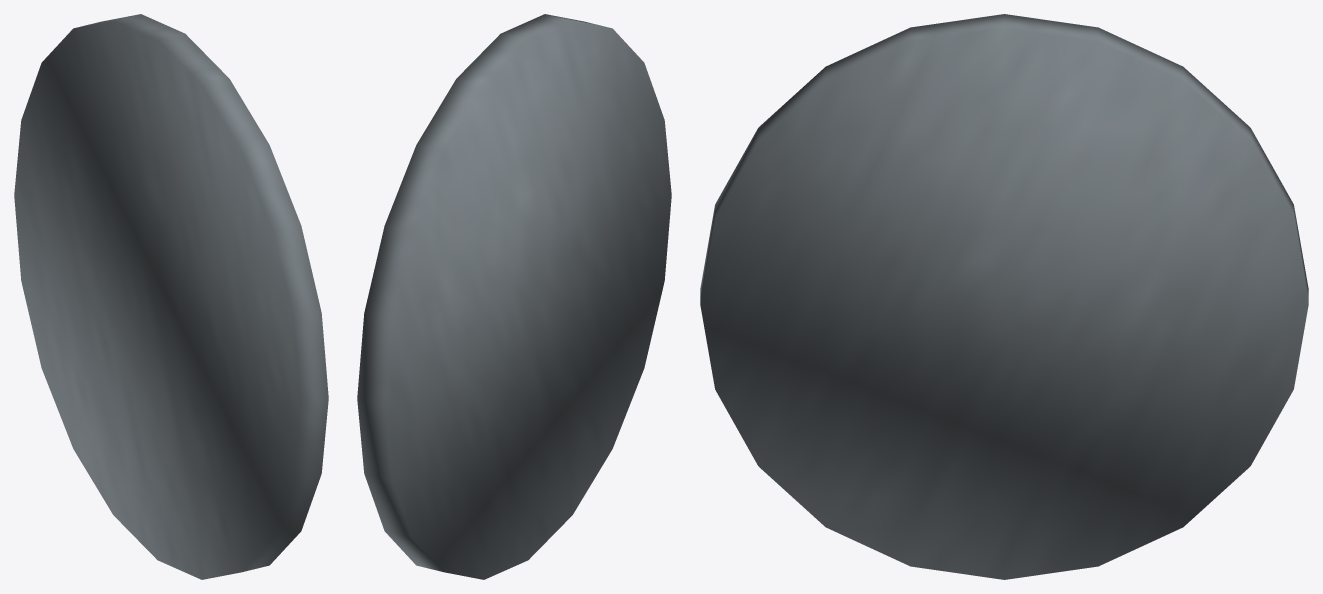
The picture shows the model from 3 angles, left to right: view 1: azimuth 30°, elevation 25°; view 2: azimuth 150°, elevation 25°; view 3: azimuth 270°, elevation 25°; orthographic projection. The views are drawn at different scales.
Size of the model in its own units: 0.024 by 0.4284 by 0.4284.
Materials: 1 (1 with a texture image).
